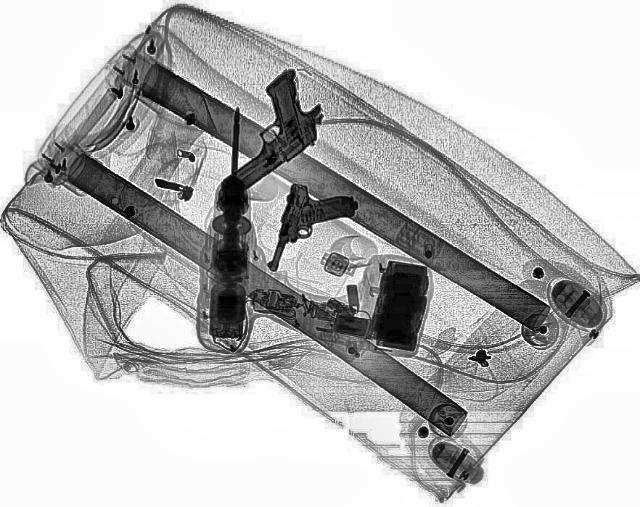Gun: (174, 66, 354, 194), (264, 180, 362, 280)
